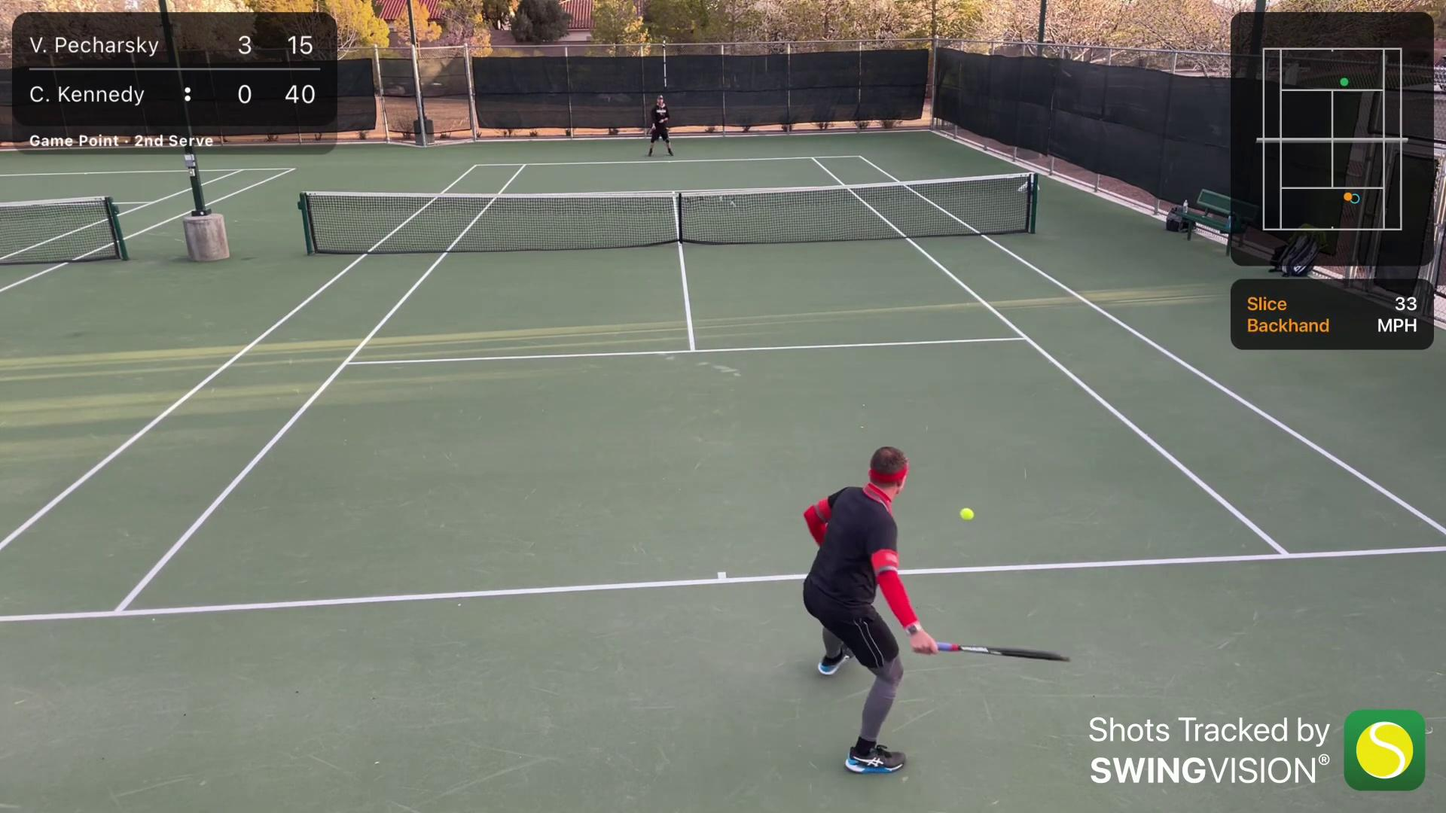ball: (956, 504, 976, 522)
